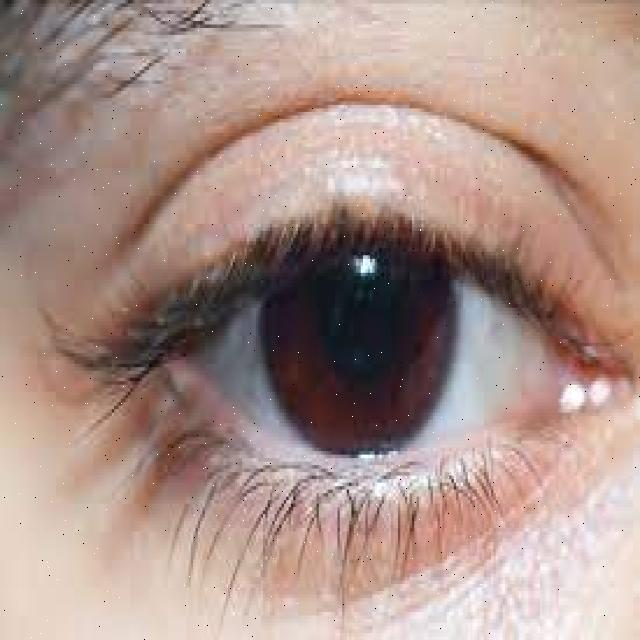Normal: (0, 92, 638, 589)
